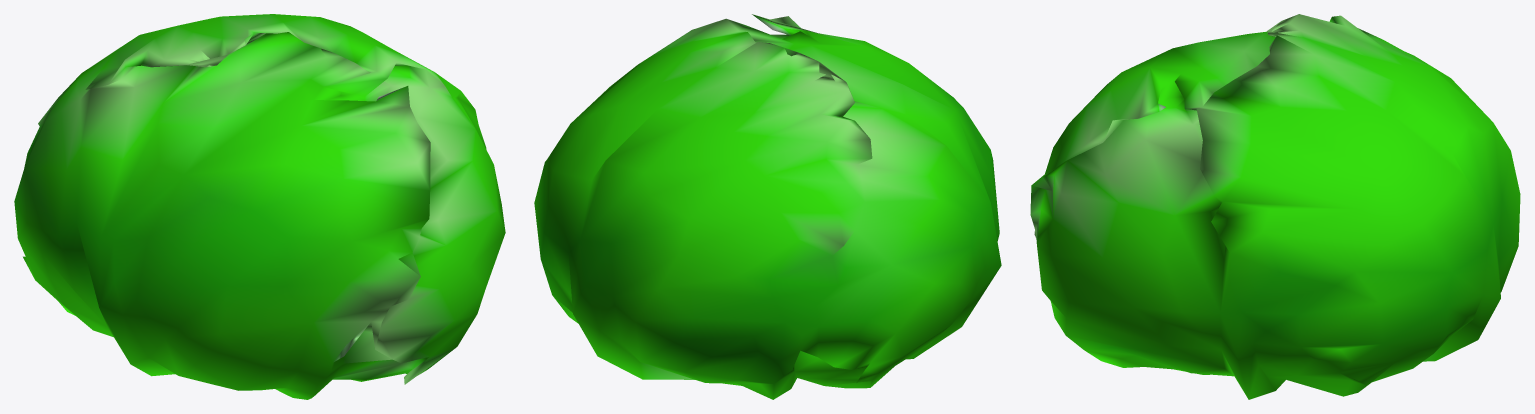
Rendered from cabbage.fbx.
The picture shows the model from 3 angles, left to right: view 1: azimuth 30°, elevation 25°; view 2: azimuth 150°, elevation 25°; view 3: azimuth 270°, elevation 25°; orthographic projection. The views are drawn at different scales.
Parts seen in each view (by area): view 1: model; view 2: model; view 3: model.
Part boxes in pixels (<box>): model: <box>14,14,505,399</box>; model: <box>534,14,1001,399</box>; model: <box>1030,14,1520,399</box>.
Bounding box in the file's own units: 337 × 249 × 351.
